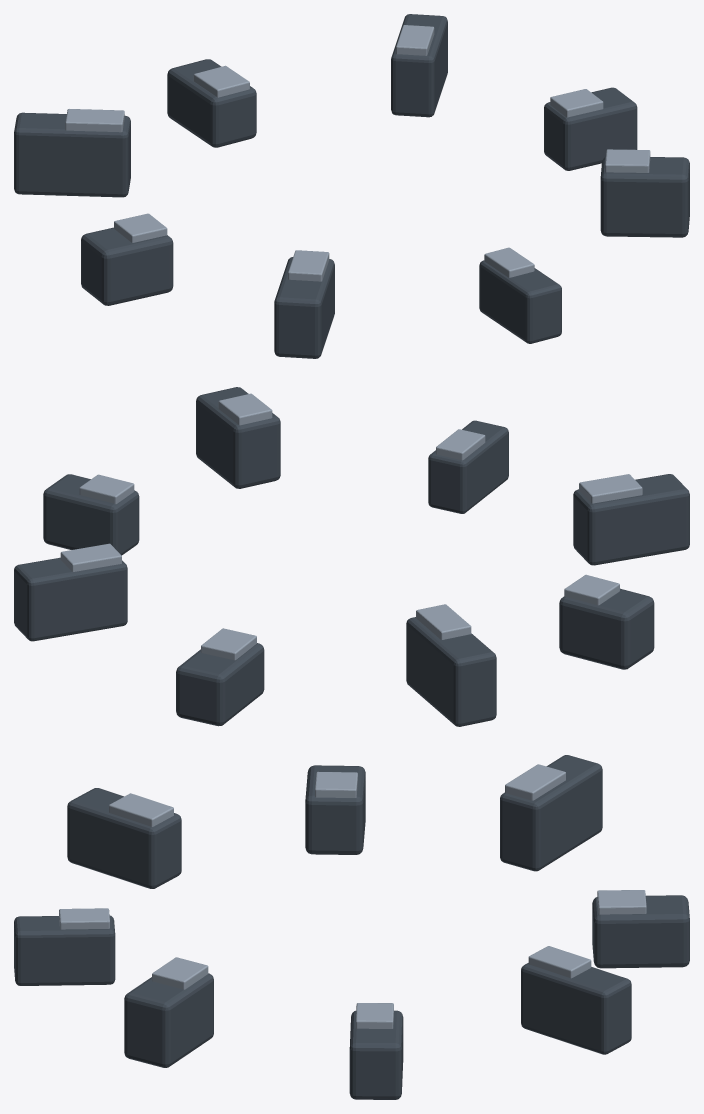
The model's file is ev_core_r11_flux.glb.
3 views of the same model, one above another, from view 1: azimuth 30°, elevation 25°; view 2: azimuth 150°, elevation 25°; view 3: azimuth 270°, elevation 25° (orthographic). The views are drawn at different scales.
Visible parts, largest first — view 1: FluxCassette_3, FluxCassette_7, FluxCassette_4, FluxCassette_0, FluxCassette_2, FluxCassette_6, FluxCassette_5, FluxCassette_1, FluxFace_3, FluxFace_2, FluxFace_5, FluxFace_4 (+4 smaller); view 2: FluxCassette_5, FluxCassette_1, FluxCassette_3, FluxCassette_4, FluxCassette_7, FluxCassette_0, FluxCassette_2, FluxCassette_6, FluxFace_5, FluxFace_3, FluxFace_1, FluxFace_2 (+4 smaller); view 3: FluxCassette_3, FluxCassette_1, FluxCassette_5, FluxCassette_7, FluxCassette_6, FluxCassette_2, FluxCassette_4, FluxCassette_0, FluxFace_5, FluxFace_3, FluxFace_1, FluxFace_7 (+4 smaller).
Boxes of the visible parts, bbox=[...] form: FluxCassette_3: bbox=[14, 112, 130, 197]; FluxCassette_7: bbox=[600, 157, 689, 237]; FluxCassette_4: bbox=[81, 227, 173, 305]; FluxCassette_0: bbox=[544, 87, 637, 170]; FluxCassette_2: bbox=[167, 59, 256, 147]; FluxCassette_6: bbox=[479, 260, 561, 343]; FluxCassette_5: bbox=[274, 257, 334, 358]; FluxCassette_1: bbox=[391, 14, 447, 117]; FluxFace_3: bbox=[65, 109, 124, 132]; FluxFace_2: bbox=[193, 65, 249, 97]; FluxFace_5: bbox=[288, 250, 329, 281]; FluxFace_4: bbox=[114, 213, 167, 242]; FluxCassette_5: bbox=[573, 474, 689, 565]; FluxCassette_1: bbox=[14, 557, 127, 641]; FluxCassette_3: bbox=[406, 617, 496, 726]; FluxCassette_4: bbox=[559, 588, 654, 669]; FluxCassette_7: bbox=[196, 387, 280, 488]; FluxCassette_0: bbox=[43, 474, 139, 555]; FluxCassette_2: bbox=[176, 643, 264, 726]; FluxCassette_6: bbox=[428, 420, 508, 513]; FluxFace_5: bbox=[579, 474, 642, 503]; FluxFace_3: bbox=[416, 604, 471, 639]; FluxFace_1: bbox=[60, 543, 121, 571]; FluxFace_2: bbox=[201, 628, 256, 660]; FluxCassette_3: bbox=[500, 755, 602, 871]; FluxCassette_1: bbox=[521, 963, 631, 1054]; FluxCassette_5: bbox=[67, 788, 181, 888]; FluxCassette_7: bbox=[124, 973, 213, 1067]; FluxCassette_6: bbox=[14, 915, 115, 985]; FluxCassette_2: bbox=[592, 895, 689, 968]; FluxCassette_4: bbox=[305, 765, 365, 854]; FluxCassette_0: bbox=[349, 1010, 403, 1099]; FluxFace_5: bbox=[109, 793, 173, 826]; FluxFace_3: bbox=[505, 764, 565, 800]; FluxFace_1: bbox=[528, 946, 591, 978]; FluxFace_7: bbox=[152, 957, 208, 989].
Bounding box in the file's own units: 6.7 × 1.07 × 6.75.
